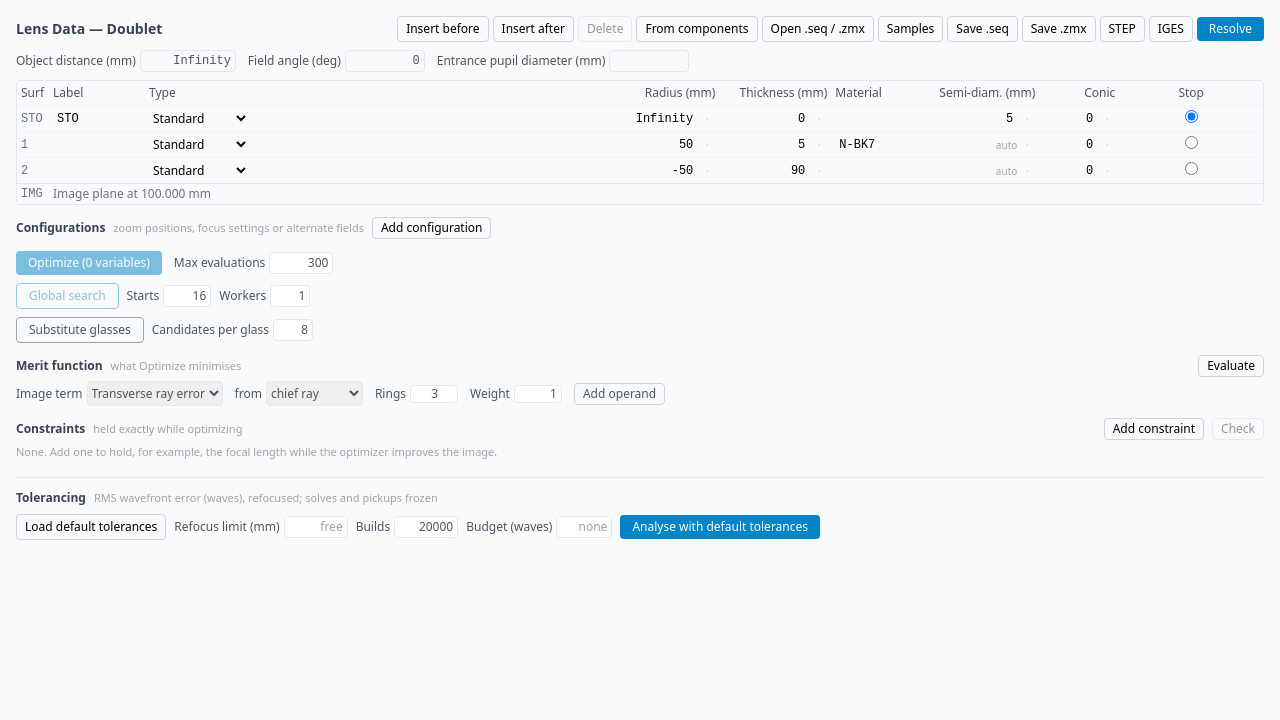
it: lens files › saves through the backend and downloads the file
Click the button "Save .zmx". click: (1059, 29)
box: x1=1022 y1=16 x2=1096 y2=42
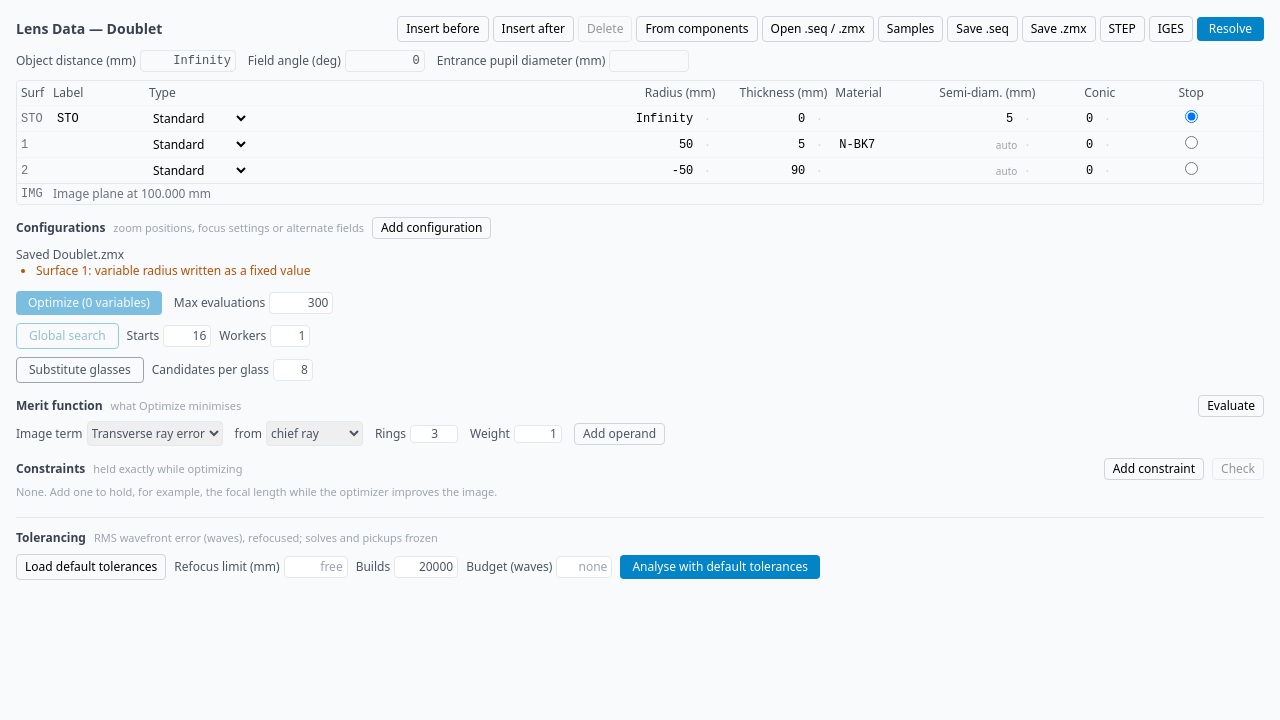
Expected: the element with test id "file-note" is shown, x1=16 y1=246 x2=310 y2=279
Expected: the element with test id "file-note" shows "Saved Doublet.zmx", x1=16 y1=246 x2=124 y2=263
